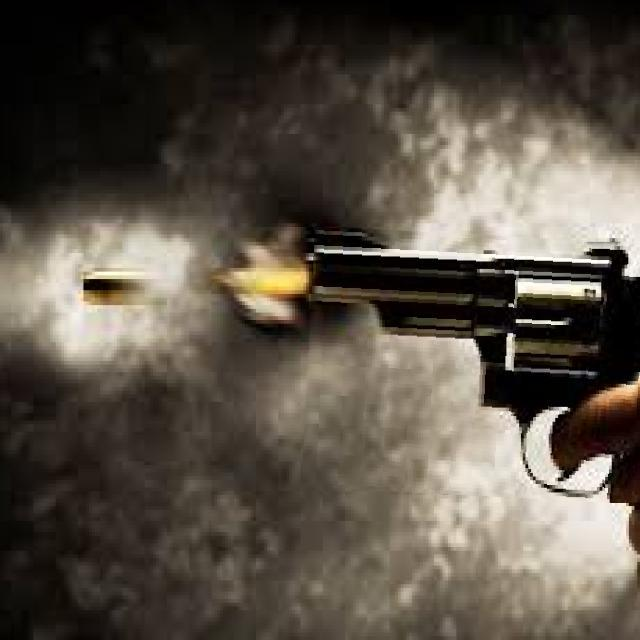Gun_Holder: (252, 208, 640, 631)
